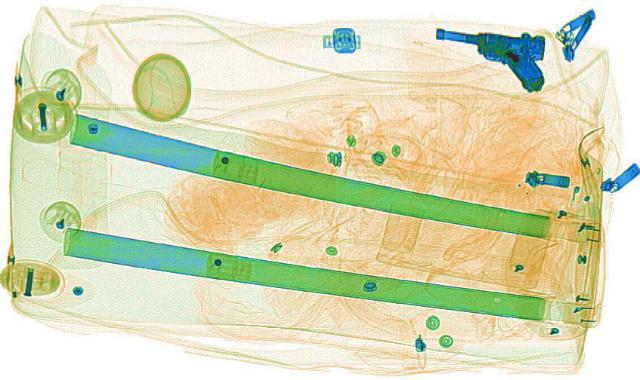Gun: (410, 18, 570, 92)
